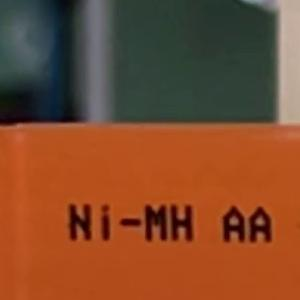NI-MH: (59, 195, 203, 250)
